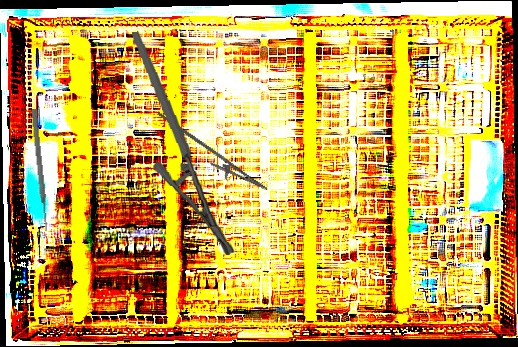Needle Holder: (131, 25, 236, 261), (144, 111, 276, 200)
Pusher: (29, 108, 51, 232)
